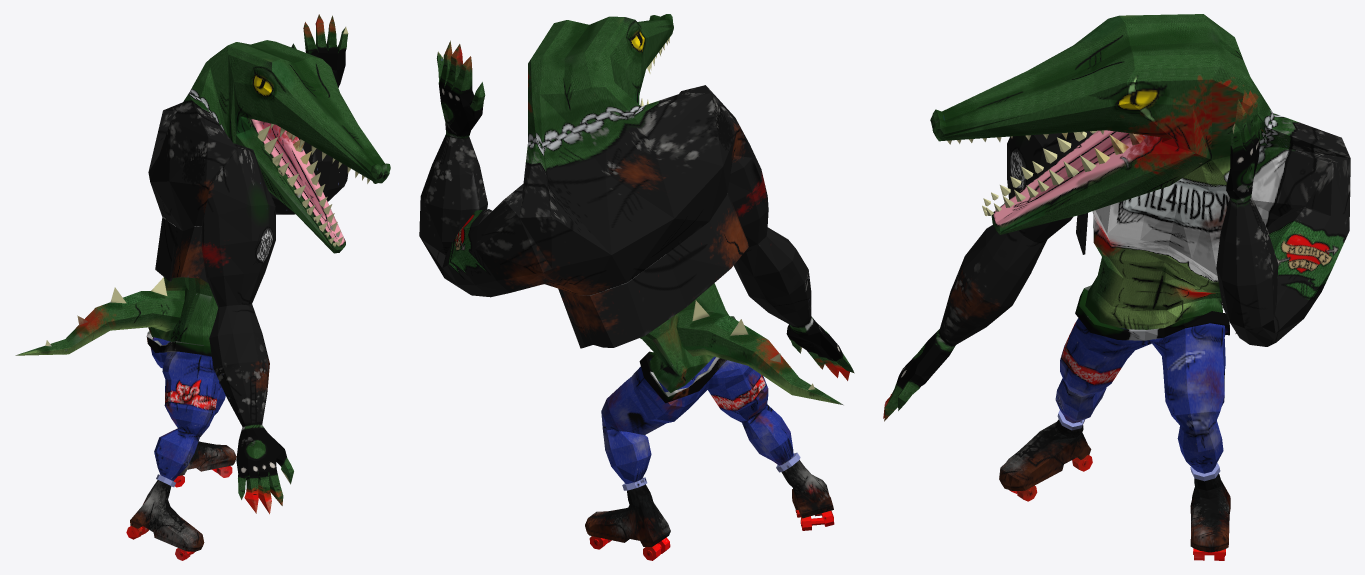
Rendered from cocodrilaBonesSelect_000025.obj.
The picture shows the model from 3 angles, left to right: view 1: azimuth 30°, elevation 25°; view 2: azimuth 150°, elevation 25°; view 3: azimuth 270°, elevation 25°; orthographic projection. The views are drawn at different scales.
Parts seen in each view (by area): view 1: Crocodile.002_Cylinder.002; view 2: Crocodile.002_Cylinder.002; view 3: Crocodile.002_Cylinder.002.
Part boxes in pixels (x1,y1,x2,y2): Crocodile.002_Cylinder.002: (15,14,390,560); Crocodile.002_Cylinder.002: (419,14,854,560); Crocodile.002_Cylinder.002: (883,14,1350,560).
Bounding box in the file's own units: 5.22 × 6.2 × 4.71.
